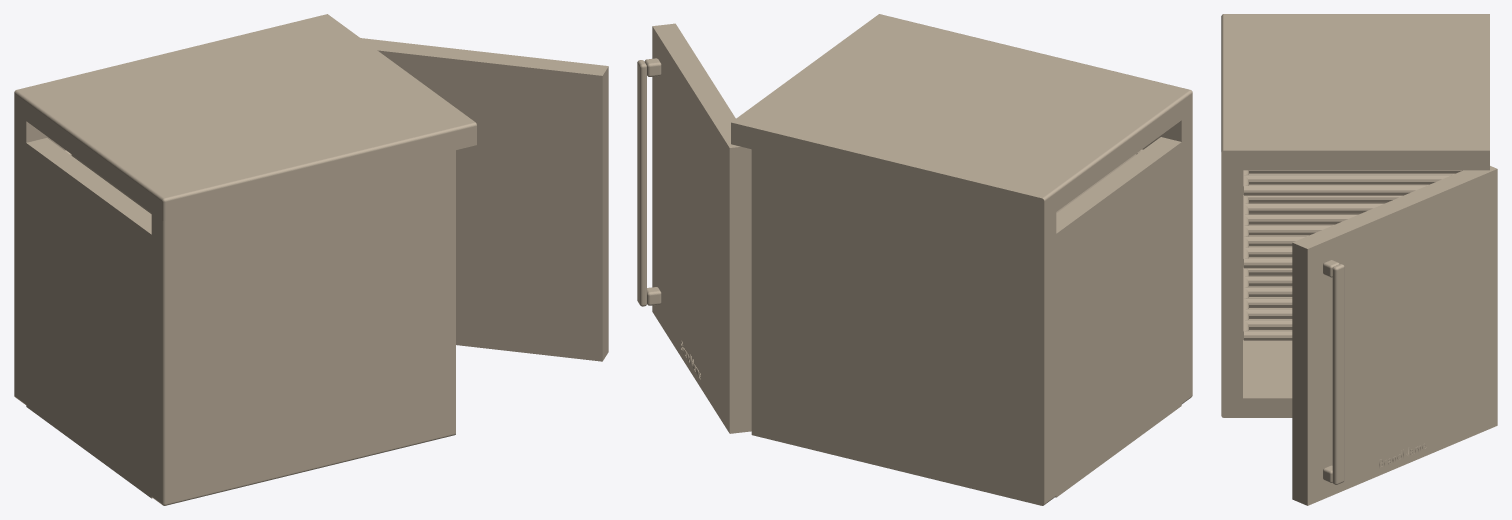
The model's file is 3dcodebench_BeverageFridge_seed0_L1_Q2__gpt61_sol.glb.
The picture shows the model from 3 angles, left to right: view 1: azimuth 30°, elevation 25°; view 2: azimuth 150°, elevation 25°; view 3: azimuth 270°, elevation 25°; orthographic projection. The views are drawn at different scales.
Visible parts, largest first — view 1: object; view 2: object; view 3: object.
Part boxes in pixels (box(x1,y1,x2,y2)): object: box(14, 14, 608, 505); object: box(637, 14, 1192, 505); object: box(1221, 14, 1497, 505).
Size of the model in its own units: 1.98 by 1.18 by 1.07.
